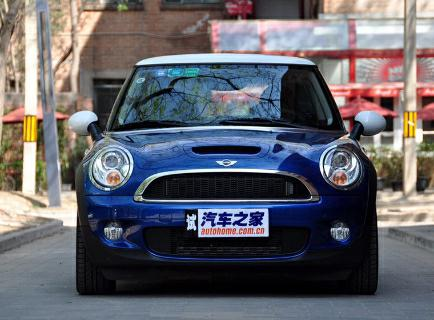MINI: (65, 59, 391, 303)
